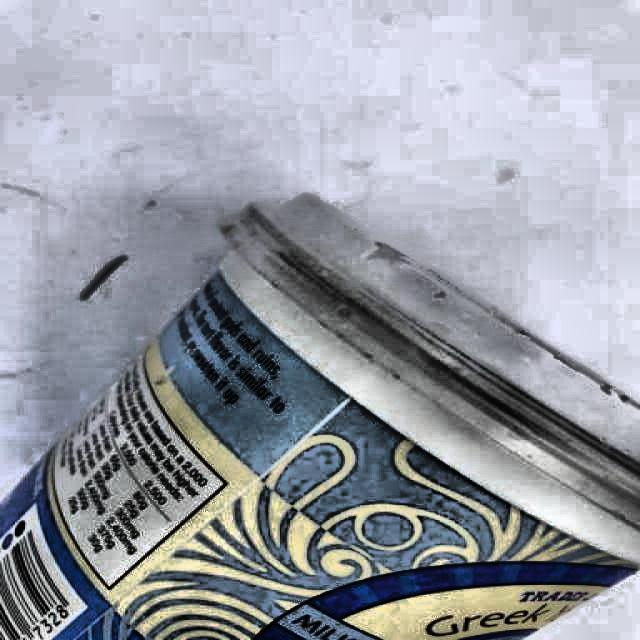plastic: (0, 196, 640, 640)
